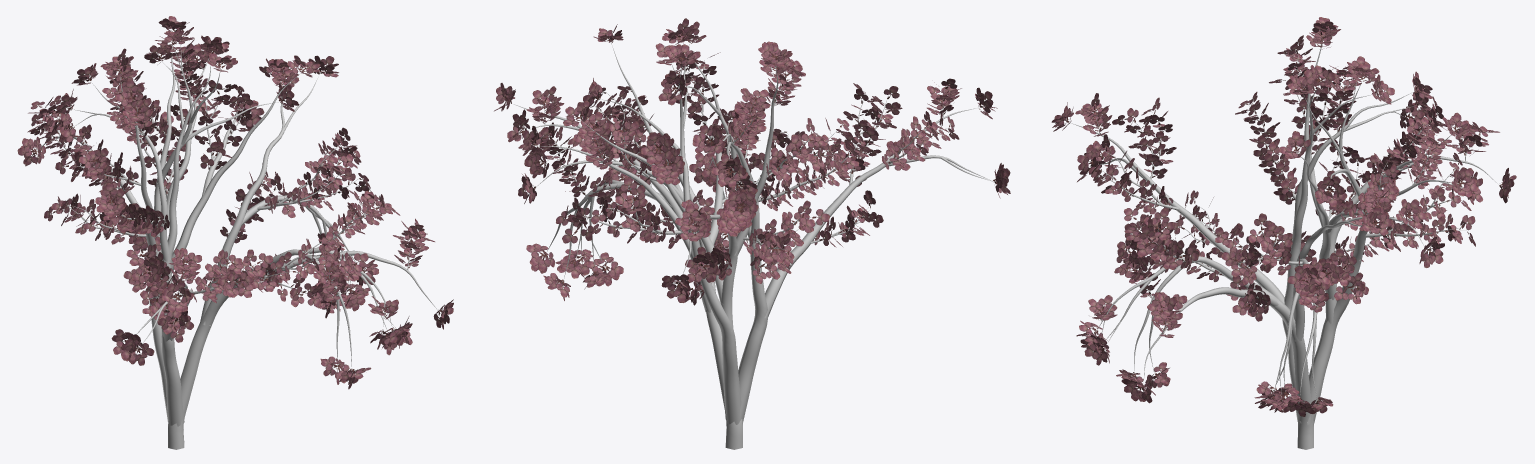
The model's file is Amazonie_Arbre_30.fbx.
3 renders of one model, left to right at view 1: azimuth 30°, elevation 25°; view 2: azimuth 150°, elevation 25°; view 3: azimuth 270°, elevation 25°, orthographic. The views are drawn at different scales.
Parts seen in each view (by area): view 1: Plane.001, tree; view 2: Plane.001, tree; view 3: Plane.001, tree.
Boxes of the visible parts, x1,y1,x2,y2 form: Plane.001: (17,16,453,389); tree: (38,30,439,449); Plane.001: (494,18,1010,305); tree: (510,37,996,449); Plane.001: (1051,17,1516,416); tree: (1066,36,1502,449).
Bounding box in the file's own units: 716 × 747 × 786.
